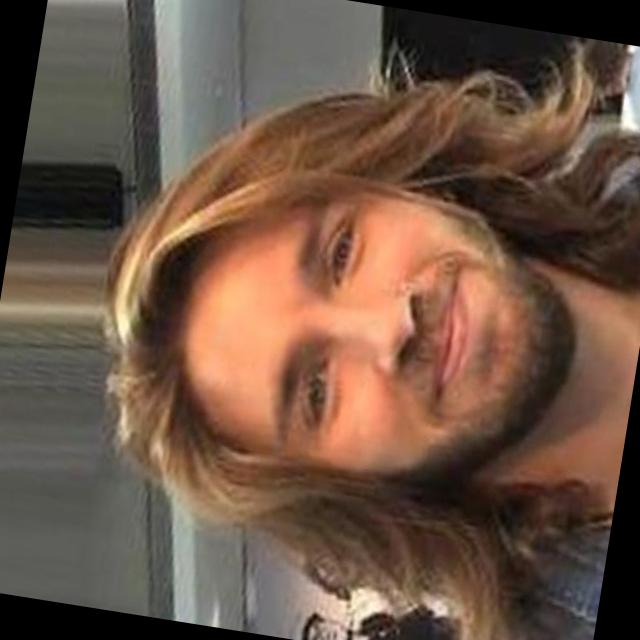bareface: (69, 82, 631, 582)
